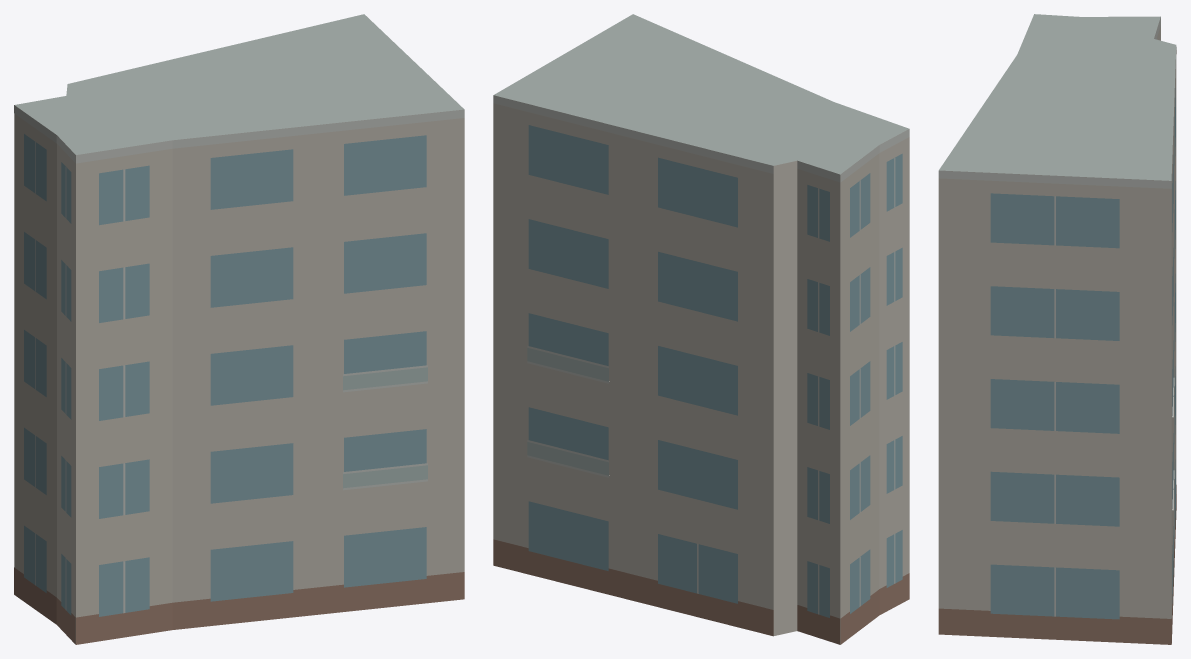
File: survey-upis-32466427.glb
3 views of the same model, side by side, from view 1: azimuth 30°, elevation 25°; view 2: azimuth 150°, elevation 25°; view 3: azimuth 270°, elevation 25° (orthographic). The views are drawn at different scales.
Visible parts, largest first — view 1: survey-upis-32466427.tmp; view 2: survey-upis-32466427.tmp; view 3: survey-upis-32466427.tmp.
Boxes of the visible parts, x1,y1,x2,y2 form: survey-upis-32466427.tmp: (14,14,464,644); survey-upis-32466427.tmp: (493,14,909,644); survey-upis-32466427.tmp: (938,14,1176,644).
Size of the model in its own units: 10.96 by 14.2 by 6.6.
